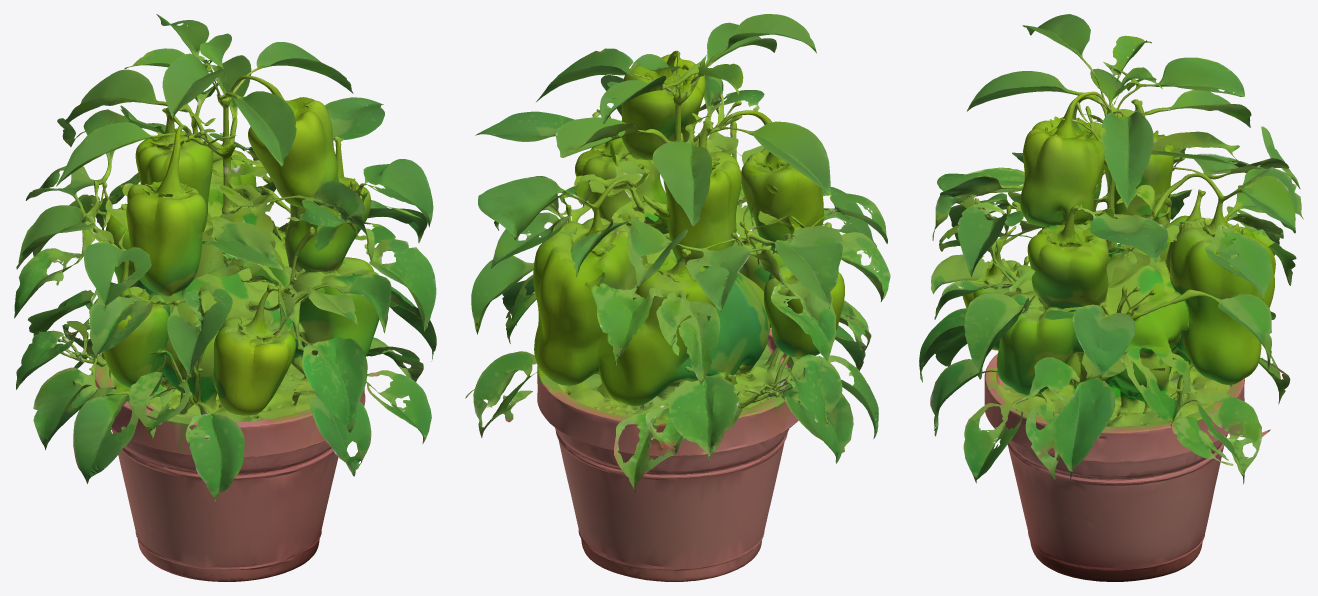
Rendered from paprika1.glb.
The picture shows the model from 3 angles, left to right: view 1: azimuth 30°, elevation 25°; view 2: azimuth 150°, elevation 25°; view 3: azimuth 270°, elevation 25°; orthographic projection. The views are drawn at different scales.
Parts seen in each view (by area): view 1: model; view 2: model; view 3: model.
Boxes of the visible parts, left/top/right/bottom form: model: left=14, top=14, right=436, bottom=581; model: left=465, top=14, right=890, bottom=581; model: left=919, top=14, right=1303, bottom=581.
Size of the model in its own units: 1.43 by 1.9 by 1.34.
Materials: 1 (1 with a texture image).
